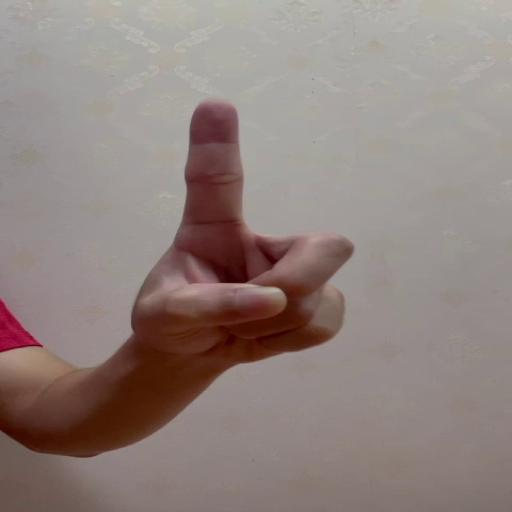point: (174, 95, 356, 360)
